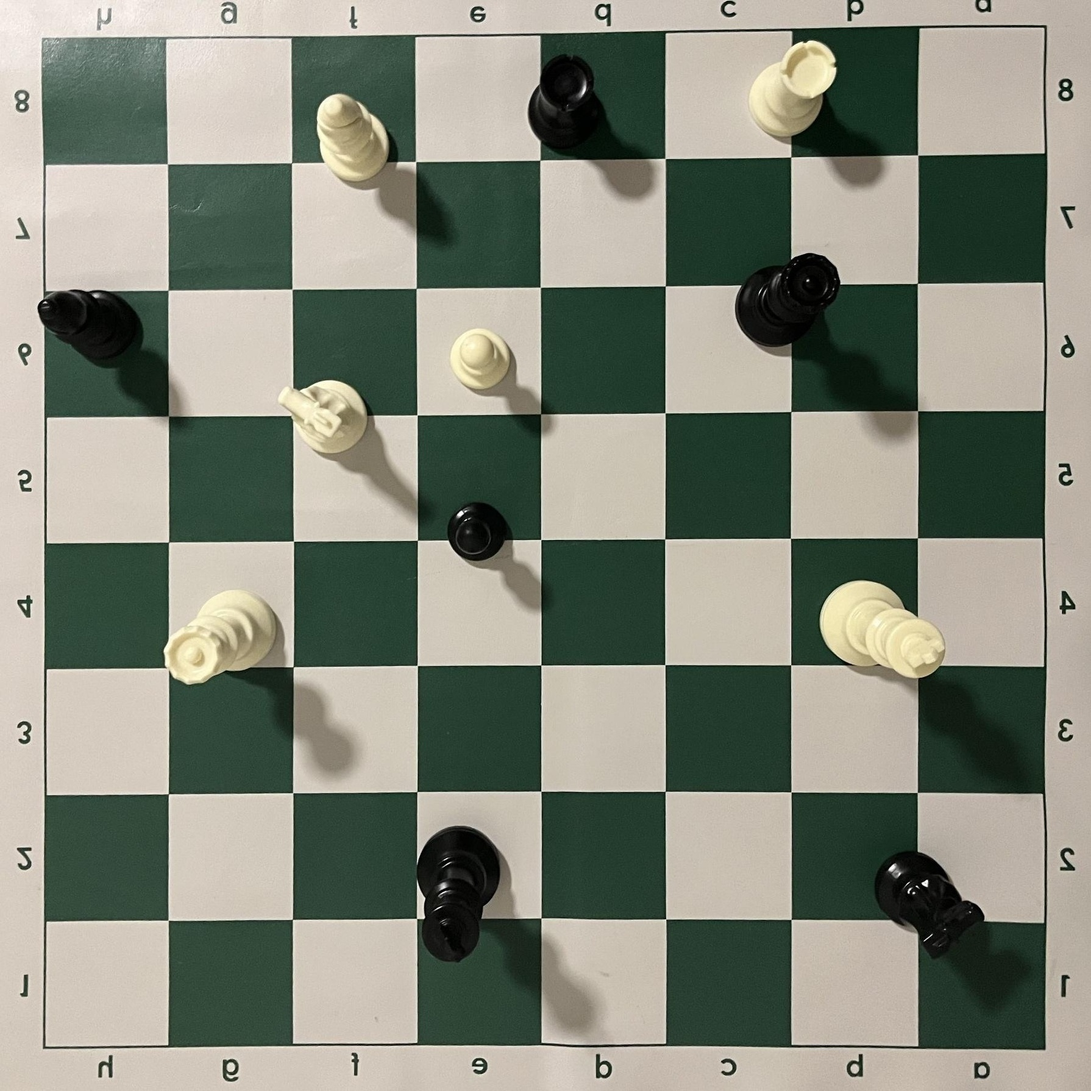black_bishop: (416, 825, 501, 962), (37, 288, 139, 361)
black_knight: (873, 850, 986, 960)
black_pawn: (447, 502, 511, 563)
black_queen: (733, 252, 841, 347)
black_rook: (528, 53, 603, 149)
white_bishop: (315, 92, 392, 184)
white_king: (819, 579, 947, 680)
white_knight: (277, 379, 369, 455)
white_pawn: (450, 329, 512, 392)
white_queen: (163, 590, 277, 687)
white_rook: (747, 39, 839, 138)
